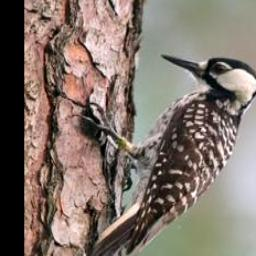Woodpecker: (73, 53, 256, 256)
